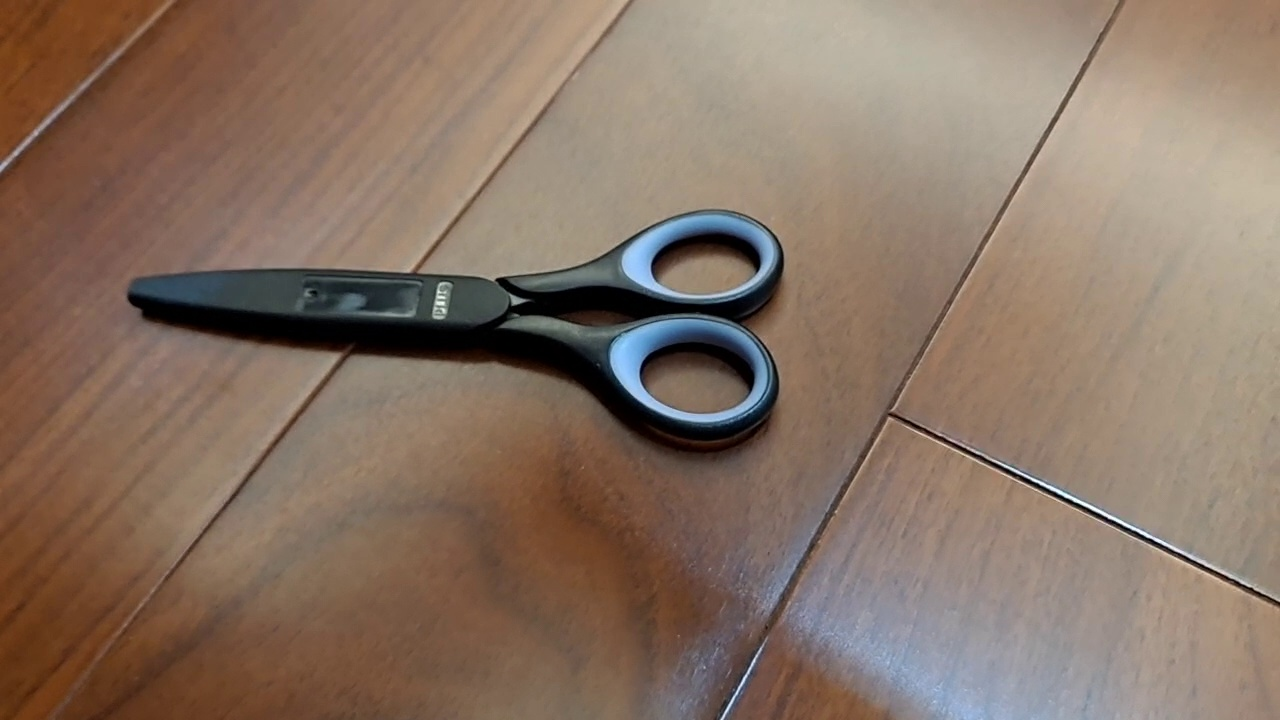scissors: (125, 207, 785, 444)
